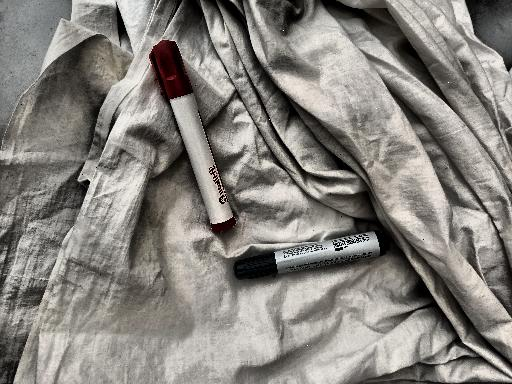marcador negro: (233, 230, 390, 280)
marcador rojo: (149, 40, 236, 232)
